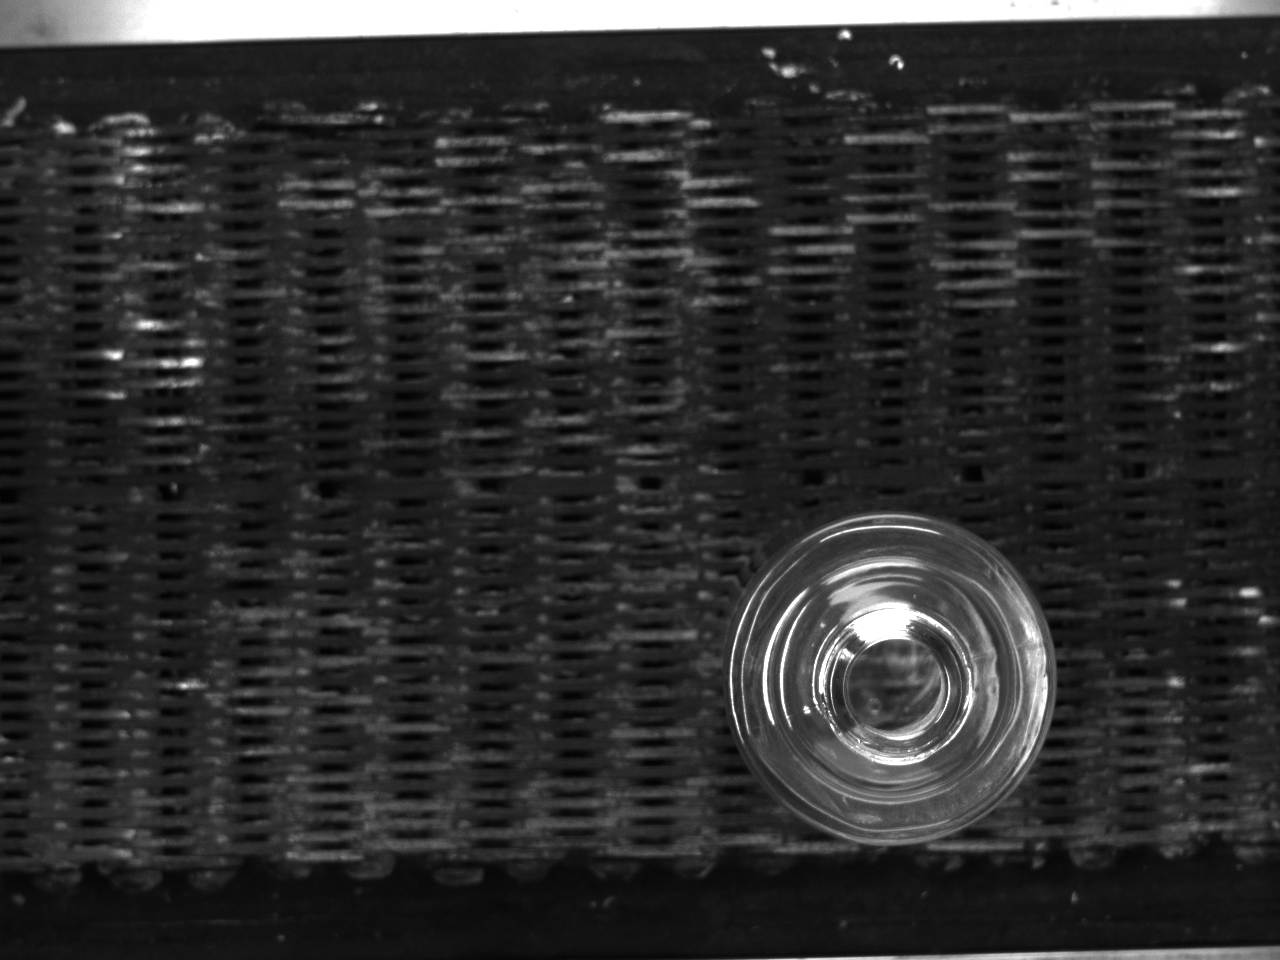bottleneck: (822, 607, 976, 767)
